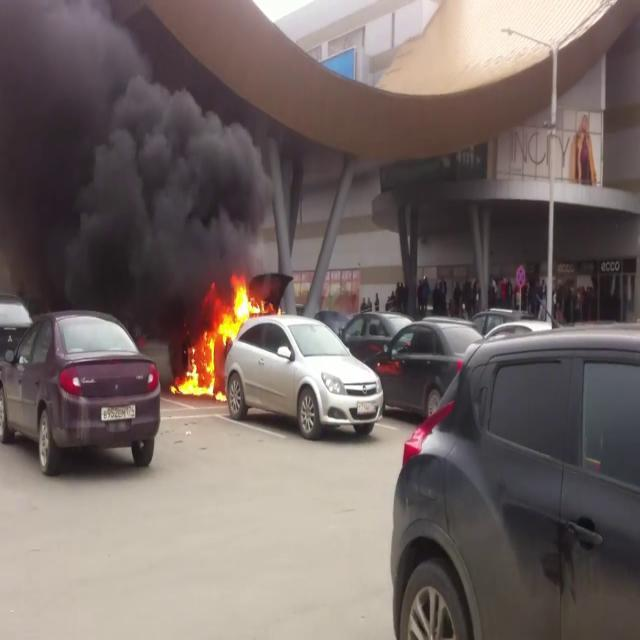Fire: (178, 272, 274, 398), (218, 274, 276, 334)
Smoke: (0, 1, 275, 314)
